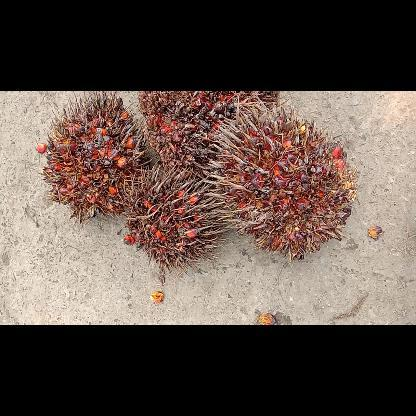Terlalu masak: (201, 101, 365, 265), (36, 91, 154, 230), (116, 158, 226, 274), (132, 91, 280, 177)
